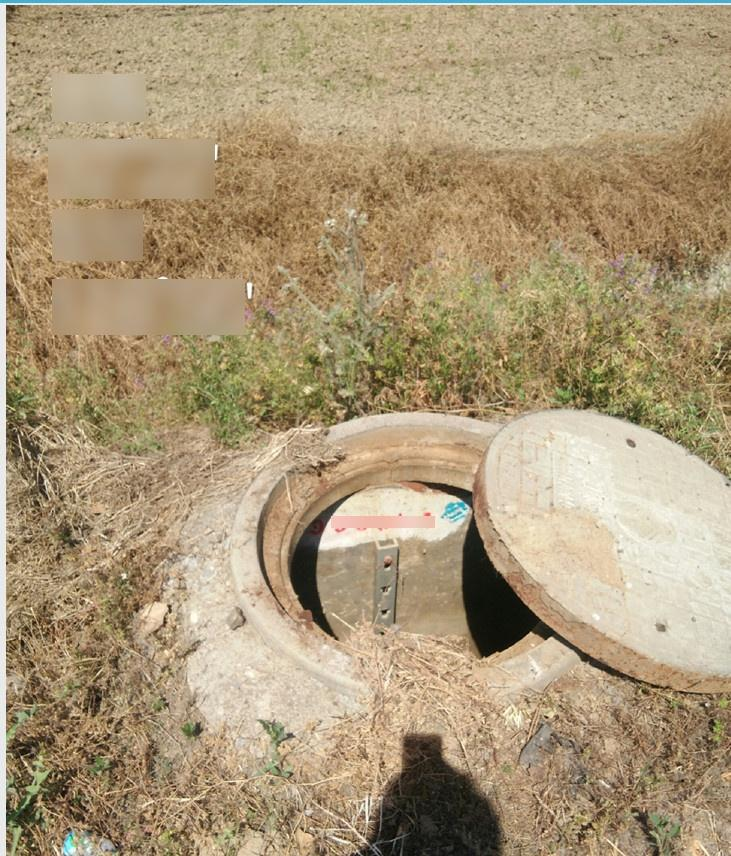wellcover: (255, 390, 731, 700)
